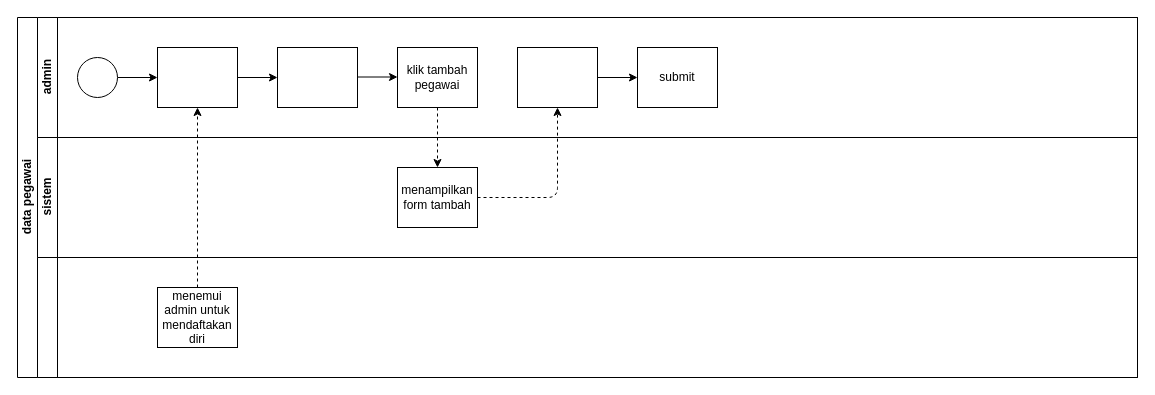
The diagram is 1155 pixels wide and 395 high, and some of its shapes have lost their labels. The box of each missing label's shape, as (x1, y1, x2, y2) in pixels:
akses dashboard admin: (276, 46, 358, 108)
login: (156, 46, 238, 108)
menambahkan data pegawai: (516, 46, 598, 108)
pegawai: (36, 256, 1138, 378)
